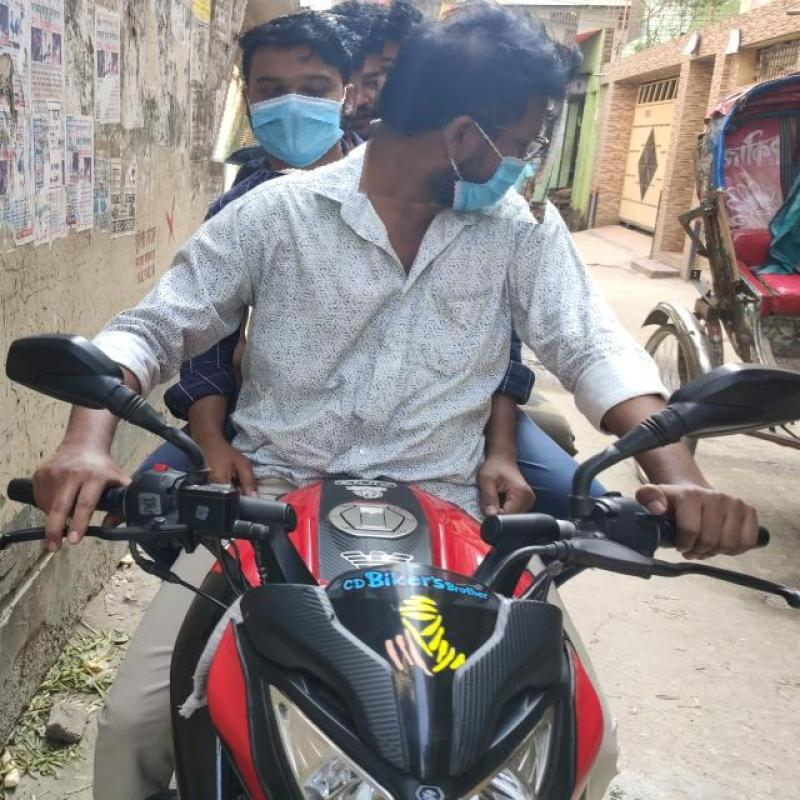nohelmet: (365, 0, 570, 217), (214, 2, 366, 179)
